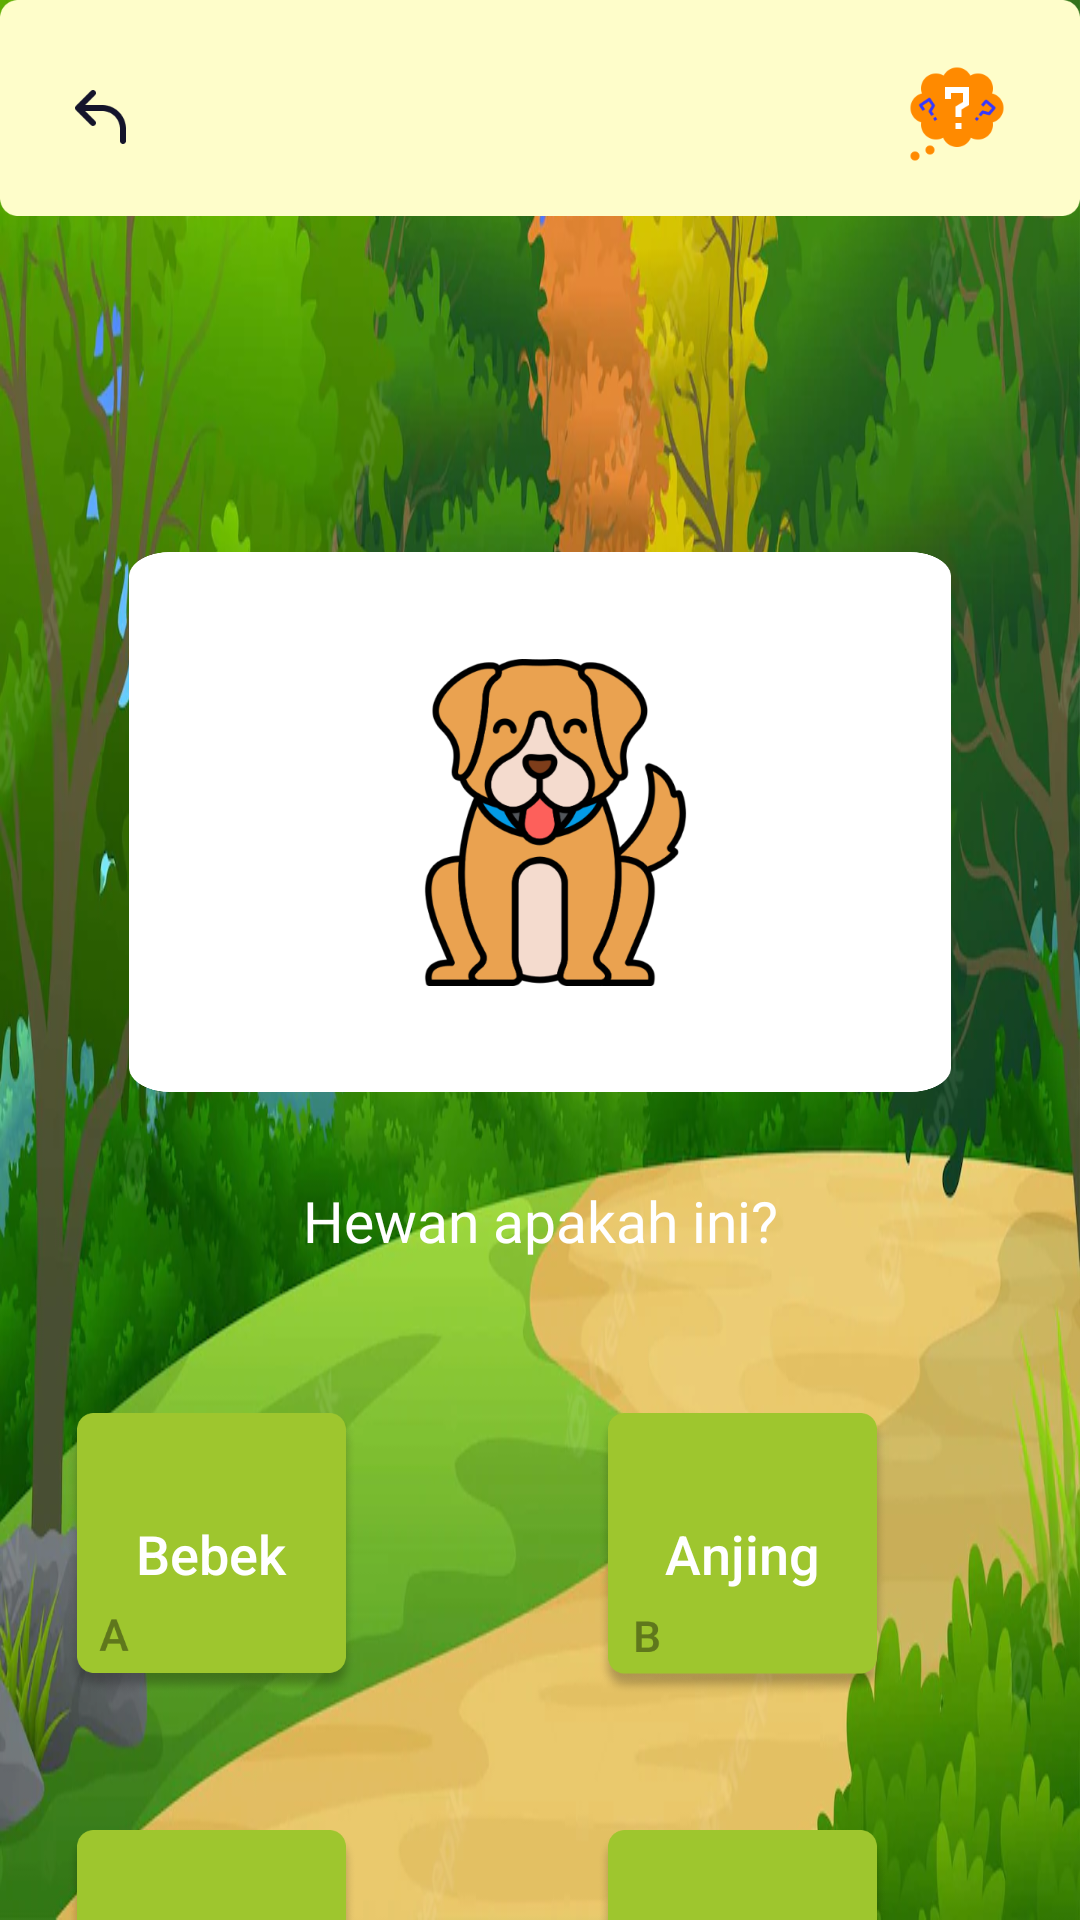

Icons on this 1080px x 1920px Android screen, each with its box as (x1, y1, x2, y2):
anjing: (425, 659, 686, 986)
back: (75, 90, 126, 144)
help: (910, 67, 1004, 161)
